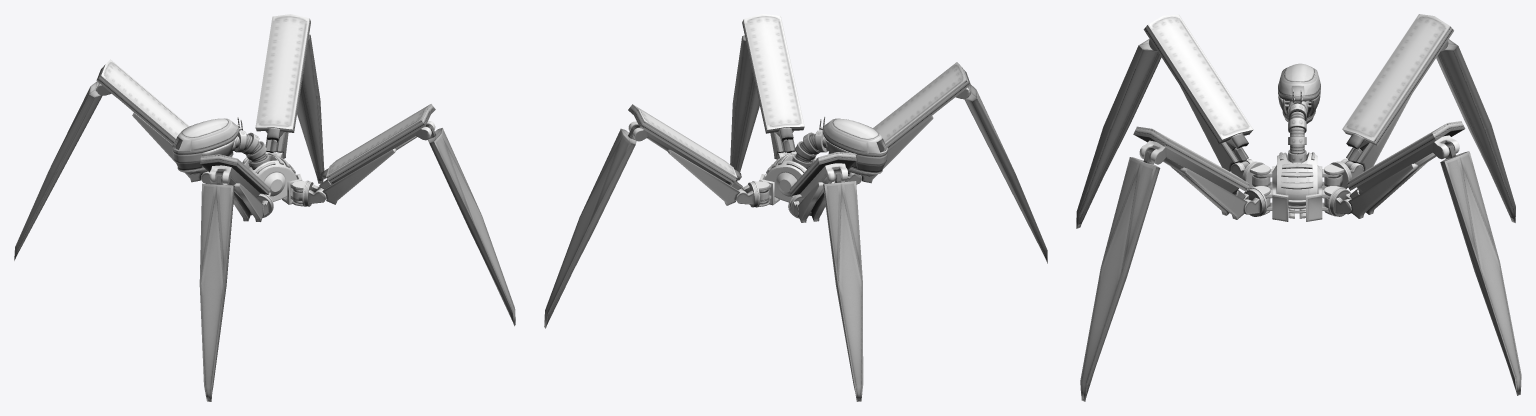
The model's file is Gun_Bot.obj.
3 renders of one model, left to right at view 1: azimuth 30°, elevation 25°; view 2: azimuth 150°, elevation 25°; view 3: azimuth 270°, elevation 25°, orthographic. The views are drawn at different scales.
Parts seen in each view (by area): view 1: Cube.005_Cube.006; view 2: Cube.005_Cube.006; view 3: Cube.005_Cube.006.
Boxes of the visible parts, x1,y1,x2,y2 form: Cube.005_Cube.006: (14, 14, 515, 401); Cube.005_Cube.006: (544, 14, 1047, 401); Cube.005_Cube.006: (1076, 14, 1521, 401).
Bounding box in the file's own units: 2.69 × 1.72 × 2.87.
9 materials, 9 textured.
